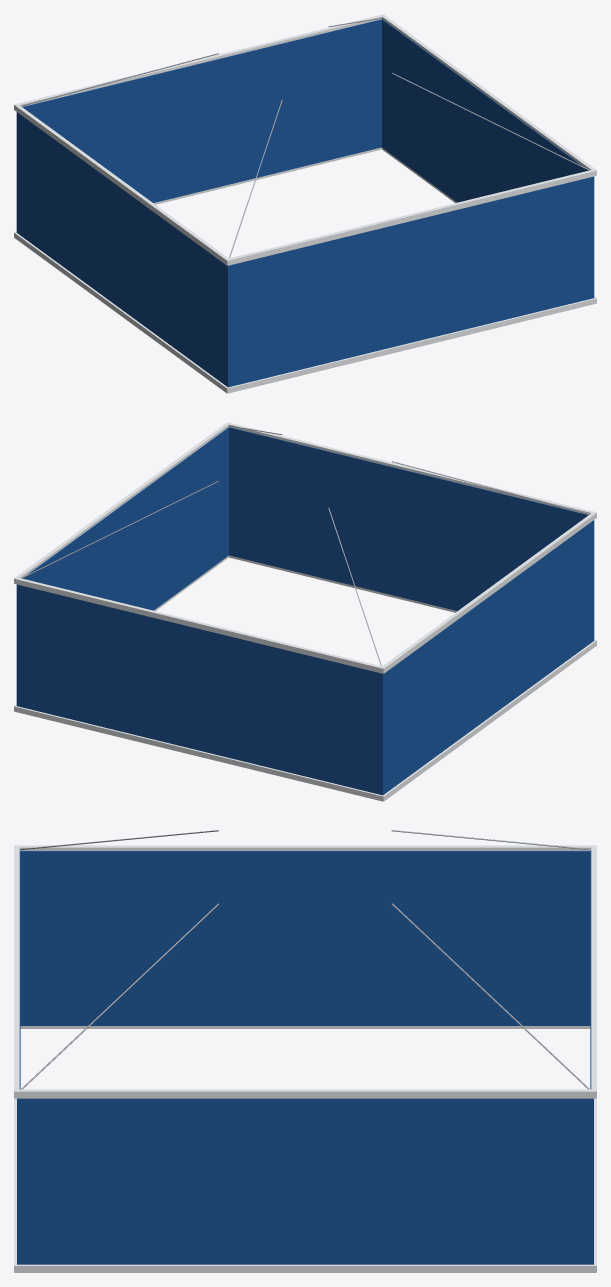
Rendered from evt-003.glb.
3 views of the same model, one above another, from view 1: azimuth 30°, elevation 25°; view 2: azimuth 150°, elevation 25°; view 3: azimuth 270°, elevation 25° (orthographic). The views are drawn at different scales.
Visible parts, largest first — view 1: airline_blue, white, steel; view 2: airline_blue, white, steel; view 3: airline_blue, white, steel.
Part boxes in pixels (<box>): airline_blue: <box>16,19,594,387</box>; white: <box>14,14,596,393</box>; steel: <box>20,17,589,258</box>; airline_blue: <box>16,427,594,795</box>; white: <box>14,422,596,801</box>; steel: <box>21,425,590,666</box>; airline_blue: <box>17,851,593,1264</box>; white: <box>14,845,596,1272</box>; steel: <box>19,830,591,1089</box>.
Bounding box in the file's own units: 3.03 × 1.62 × 3.03.
